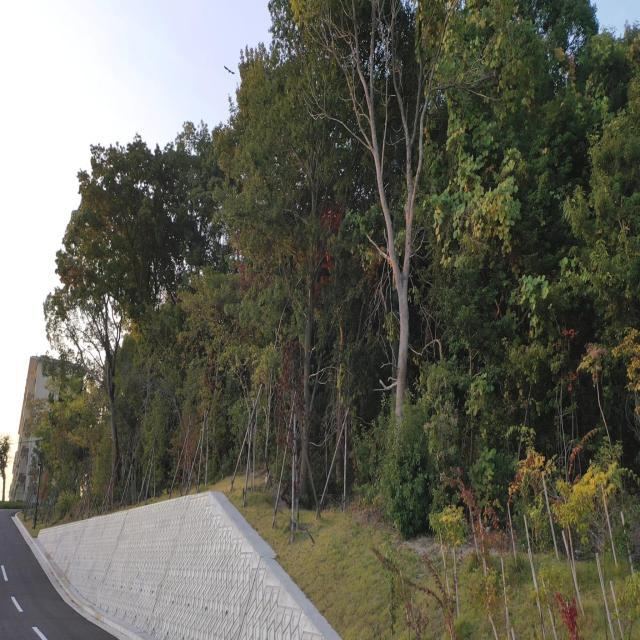Birds: (215, 49, 242, 88)
